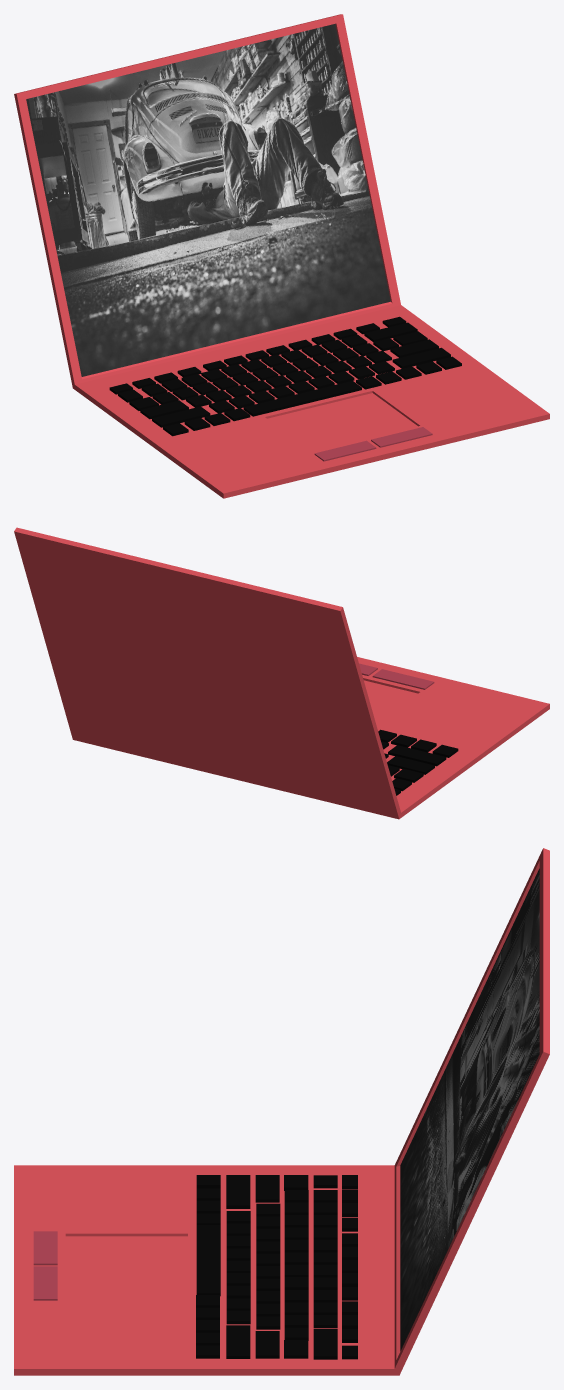
The model's file is laptok.gltf.
3 renders of one model, top to bottom at view 1: azimuth 30°, elevation 25°; view 2: azimuth 150°, elevation 25°; view 3: azimuth 270°, elevation 25°, orthographic. The views are drawn at different scales.
Visible parts, largest first — view 1: Plane.001, Plane, Cube.067, Cube.062, Cube.063, Cube.077, Cube.080; view 2: Plane.001, Plane, Cube.063, Cube.077, Cube.037; view 3: Plane, Plane.001, Cube.067, Cube.080, Cube.077, Cube.062, Cube.063, Cube.010, Cube.037, Cube.040.
Part boxes in pixels (x1,y1,x2,y2): Plane.001: (14, 14, 400, 388); Plane: (73, 305, 549, 498); Cube.067: (243, 380, 361, 416); Cube.062: (392, 347, 450, 368); Cube.063: (152, 406, 210, 427); Cube.077: (314, 440, 376, 461); Cube.080: (371, 427, 432, 447); Plane.001: (14, 527, 401, 818); Plane: (73, 657, 549, 819); Cube.063: (388, 745, 446, 766); Cube.077: (372, 669, 434, 689); Cube.037: (387, 756, 434, 774); Plane: (14, 1165, 399, 1375); Plane.001: (393, 848, 549, 1375); Cube.067: (196, 1225, 220, 1296); Cube.080: (33, 1266, 57, 1300); Cube.077: (33, 1231, 57, 1265); Cube.062: (226, 1325, 250, 1358); Cube.063: (226, 1175, 250, 1208); Cube.010: (313, 1329, 337, 1359); Cube.037: (255, 1175, 279, 1202); Cube.040: (255, 1331, 279, 1358).
Bounding box in the file's own units: 10 × 7.42 × 11.12.
Materials: 9 (1 with a texture image).
